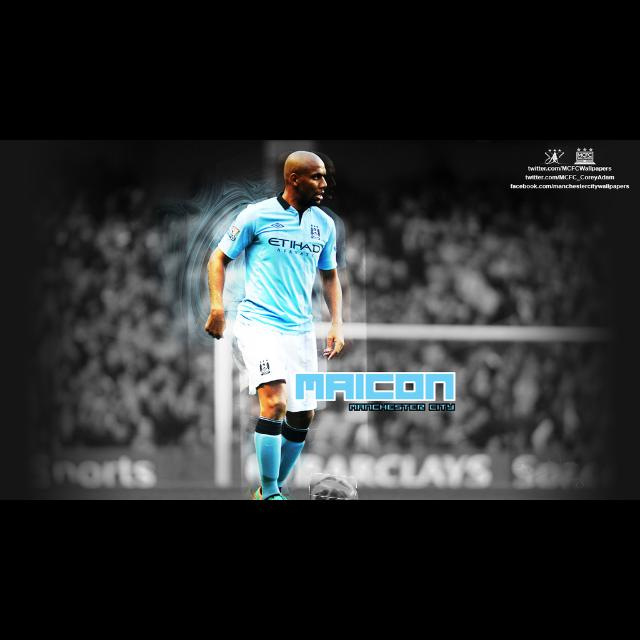Football: (310, 474, 356, 500)
